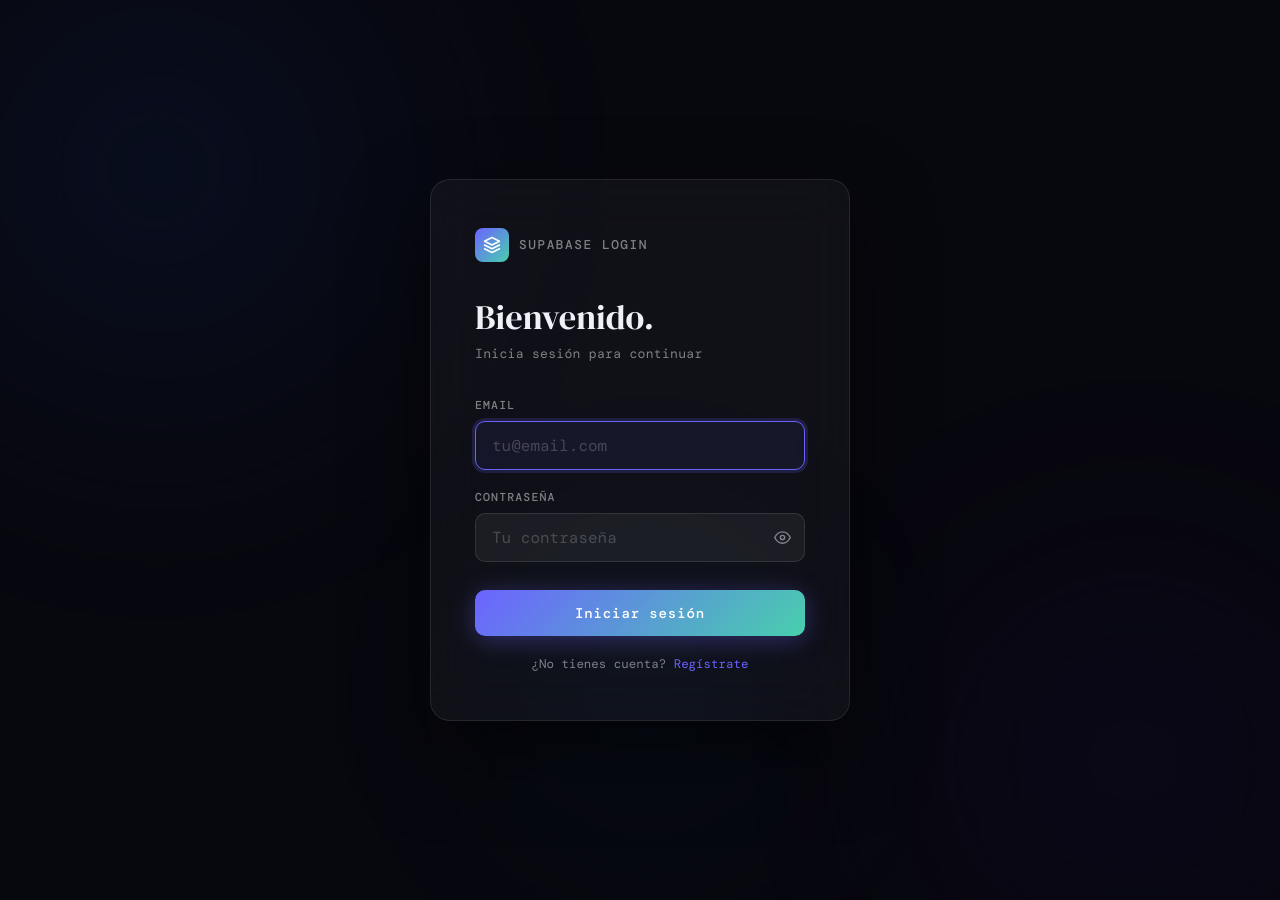
Scenario: LoginForm › valida que los campos no estén vacíos al enviar
Click the button "Iniciar sesión". click: (640, 613)
box: left=475, top=590, right=805, bottom=636
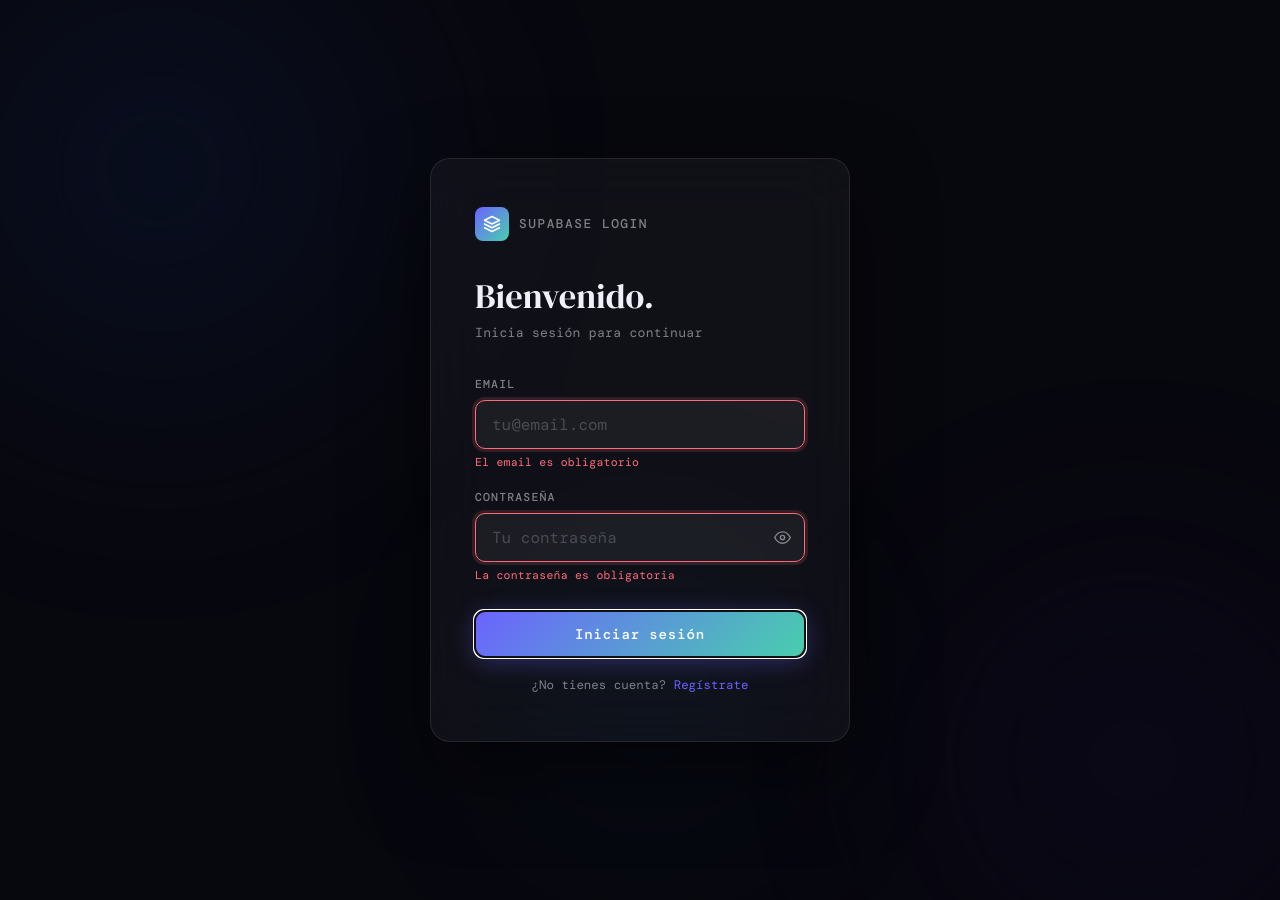
expect the text "El email es obligatorio" is shown: met, box left=475, top=455, right=639, bottom=470
expect the text "La contraseña es obligatoria" is shown: met, box left=475, top=568, right=675, bottom=583
